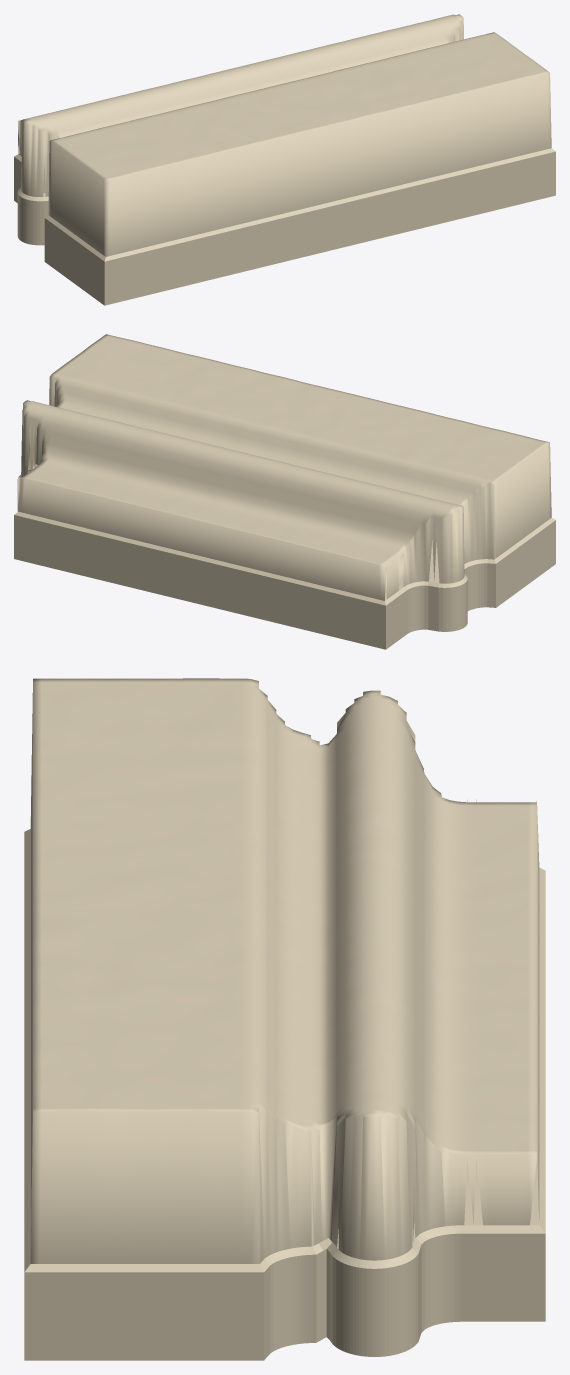
Rendered from mahsulot.glb.
3 views of the same model, one above another, from view 1: azimuth 30°, elevation 25°; view 2: azimuth 150°, elevation 25°; view 3: azimuth 270°, elevation 25° (orthographic). The views are drawn at different scales.
Visible parts, largest first — view 1: mahsulot; view 2: mahsulot; view 3: mahsulot.
Boxes of the visible parts, left/top/right/bottom form: mahsulot: left=14, top=14, right=555, bottom=305; mahsulot: left=14, top=334, right=555, bottom=649; mahsulot: left=24, top=678, right=545, bottom=1360.
Bounding box in the file's own units: 0.25 × 0.065 × 0.125.
